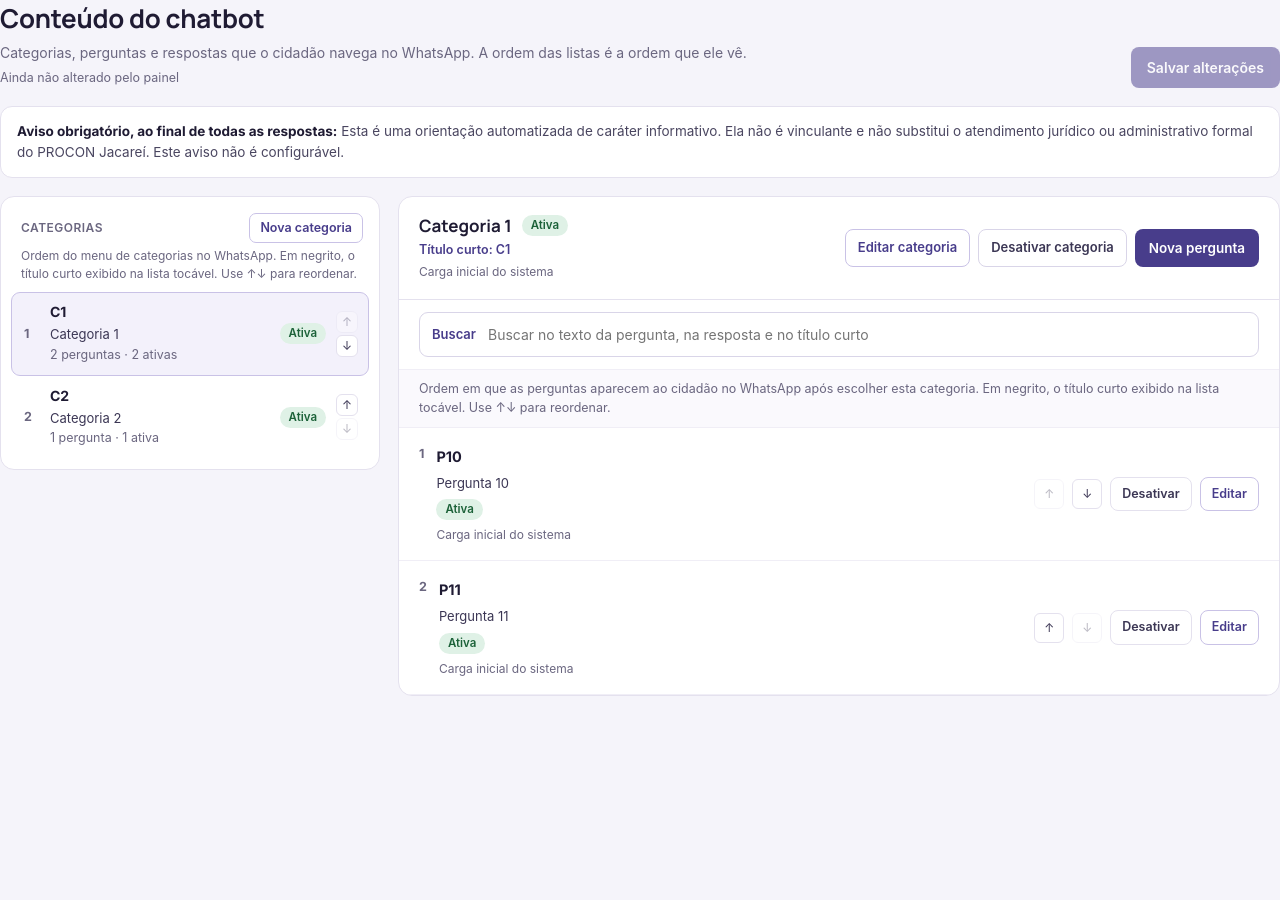
Test case: ContentPage › depois de salvar uma categoria nova a seleção continua nela
Expected: the heading "Categorias" is shown, [21,219,103,237]
Expected: the text "P10" is shown, [436,448,462,465]
Click the button "Nova categoria" at (306, 228), box [249,213,363,243]
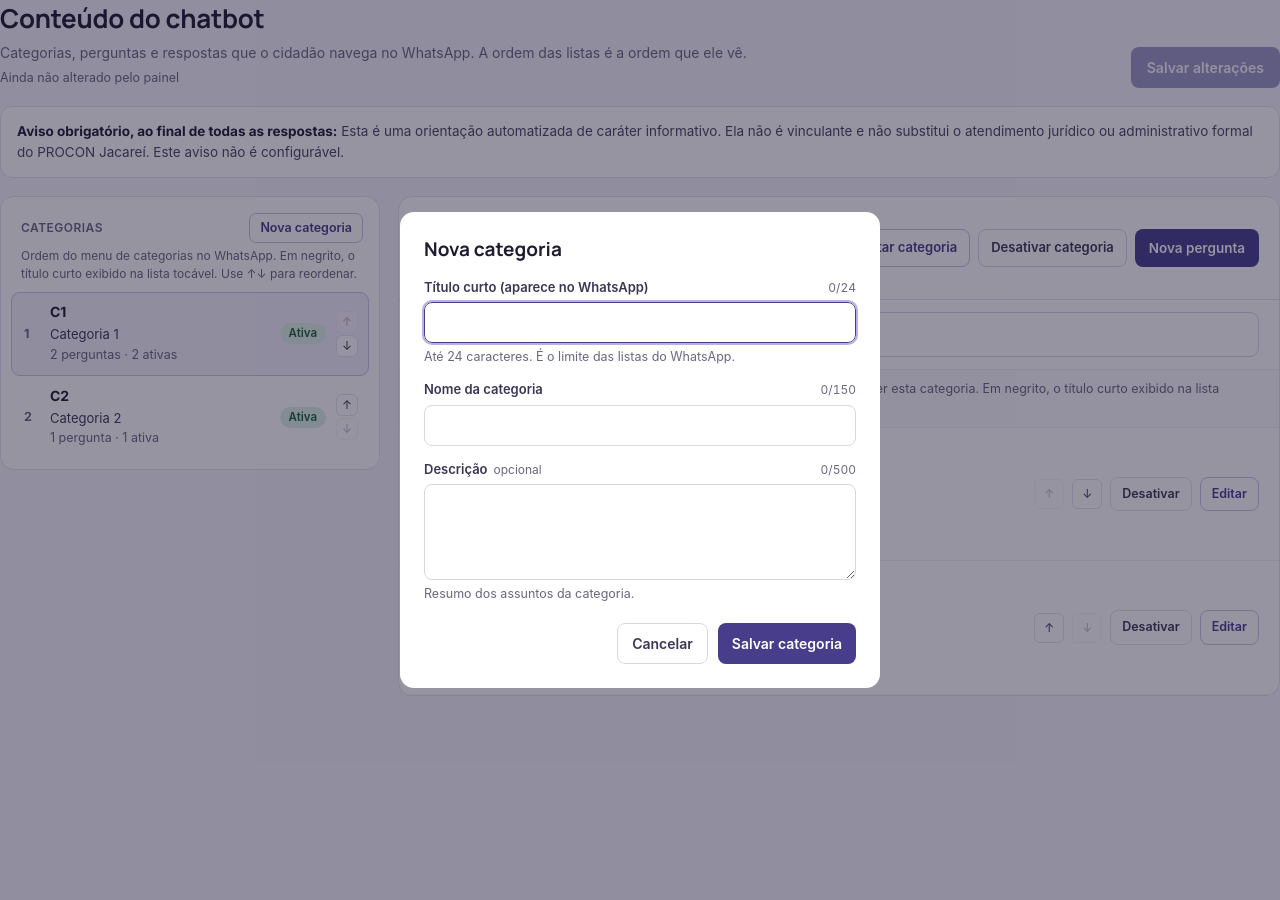
Type "Nova" into the field labelled "Título curto (aparece no WhatsApp)" at (640, 323), box [424,302,856,343]
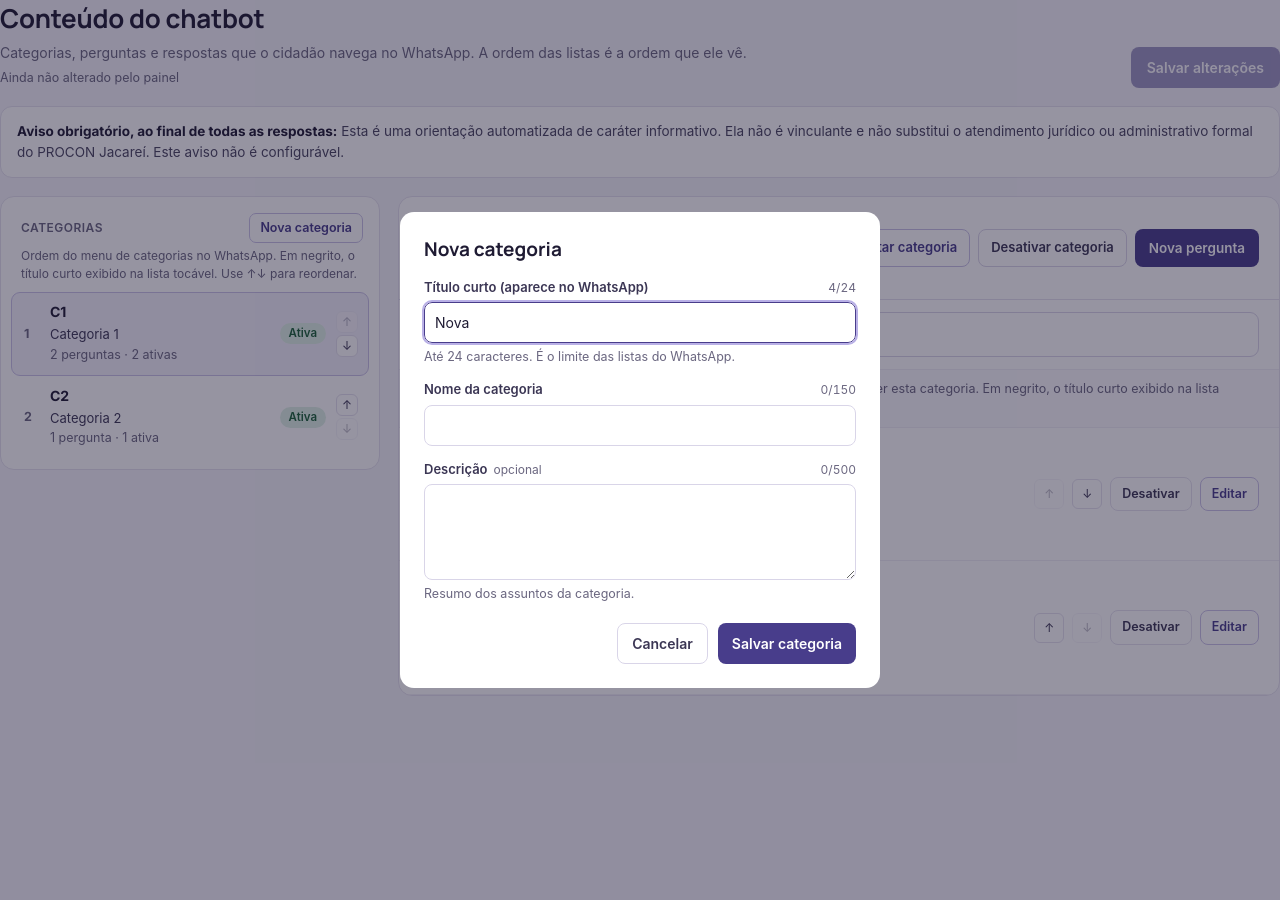
Type "Categoria nova" into the field labelled "Nome da categoria" at (640, 425), box [424,405,856,446]
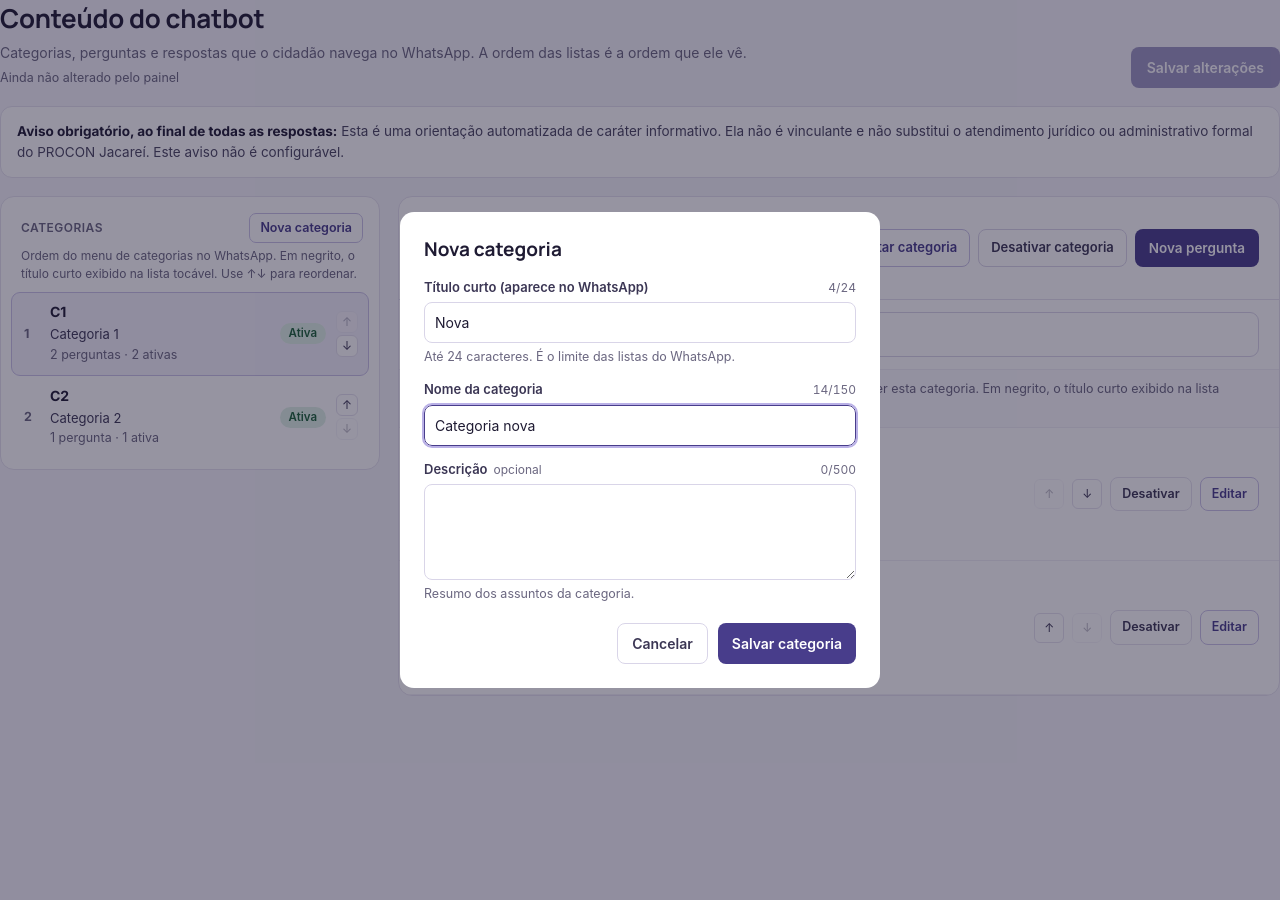
Click the button "Salvar categoria" at (787, 644), box [718,623,856,664]
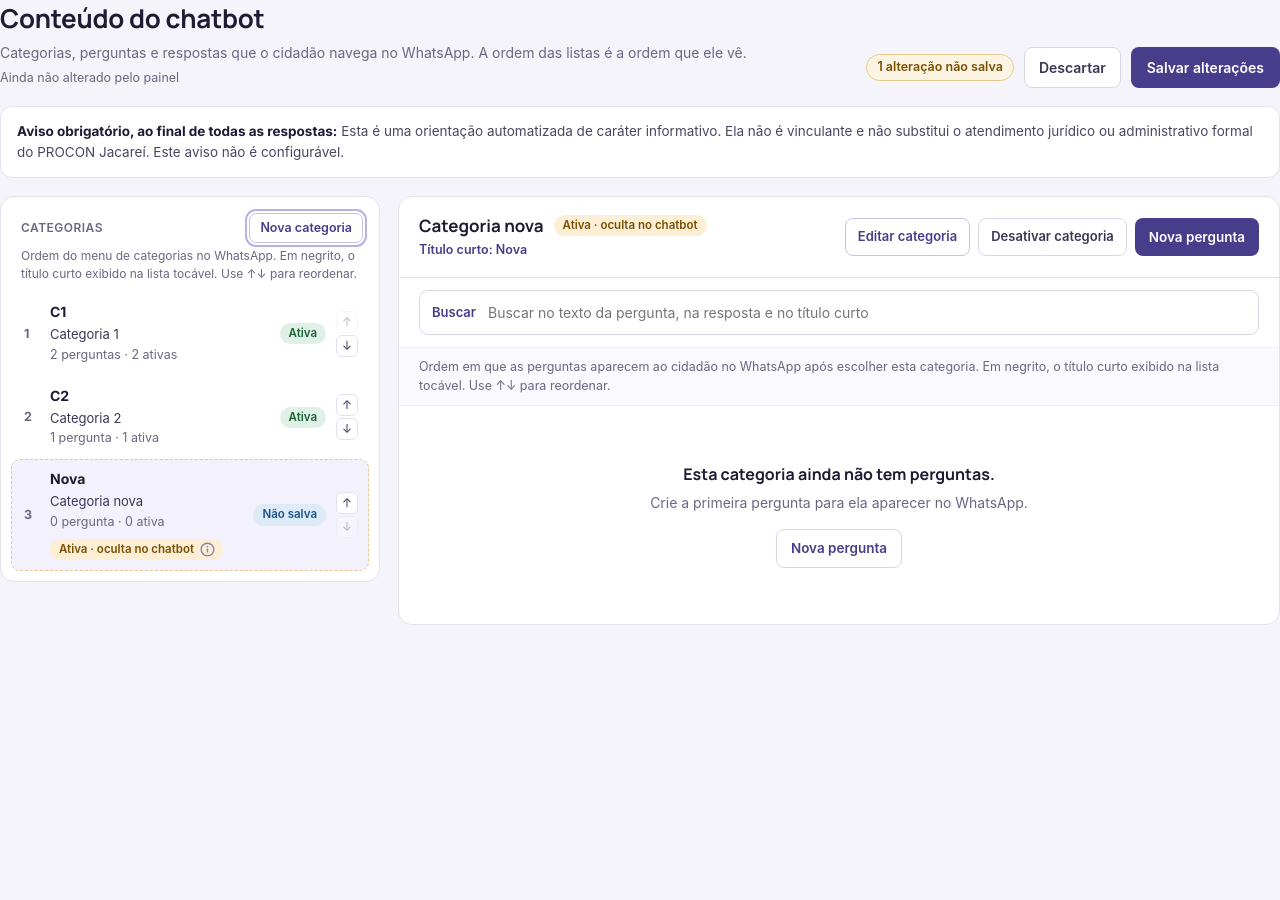
Click the button "Salvar alterações" at (1205, 67), box [1131,47,1279,88]
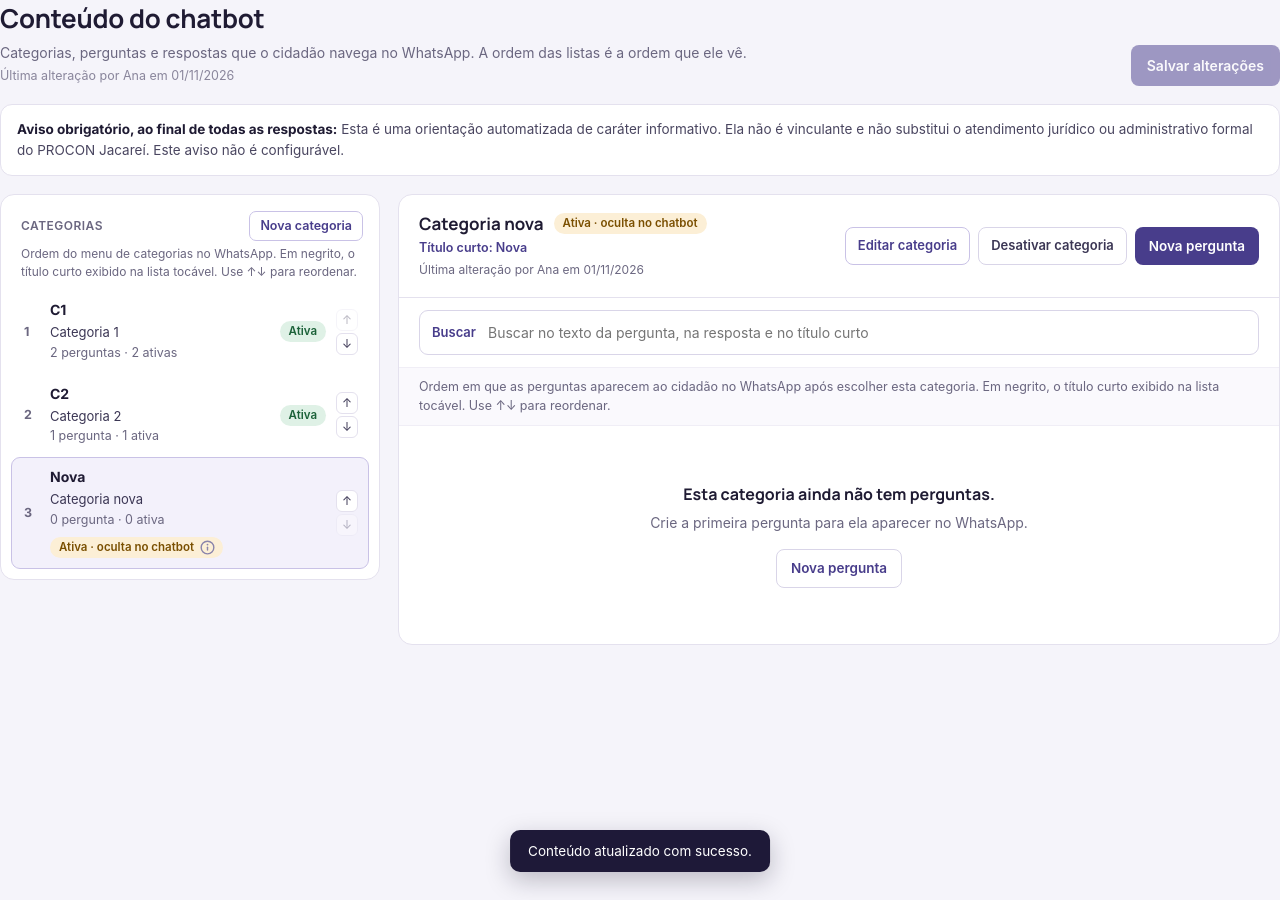
Expected: the heading "Categoria nova" is shown, [419,213,544,235]
Expected: the text "Conteúdo atualizado com sucesso." is shown, [510,830,770,872]
